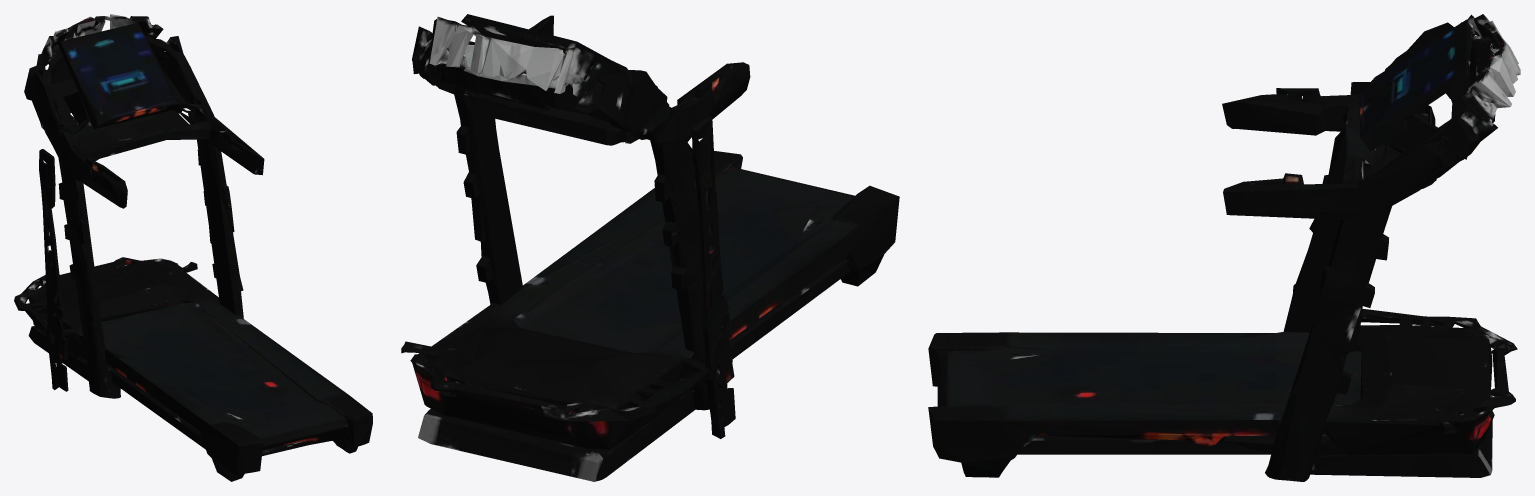
The model's file is k1-proform-carbon-tl-phone.glb.
3 views of the same model, side by side, from view 1: azimuth 30°, elevation 25°; view 2: azimuth 150°, elevation 25°; view 3: azimuth 270°, elevation 25° (orthographic). The views are drawn at different scales.
Visible parts, largest first — view 1: demo_textured.obj; view 2: demo_textured.obj; view 3: demo_textured.obj.
Boxes of the visible parts, x1,y1,x2,y2 form: demo_textured.obj: (14, 14, 372, 481); demo_textured.obj: (401, 14, 899, 481); demo_textured.obj: (928, 14, 1520, 481).
Bounding box in the file's own units: 0.931 × 1.47 × 1.98.
Materials: 1 (1 with a texture image).
